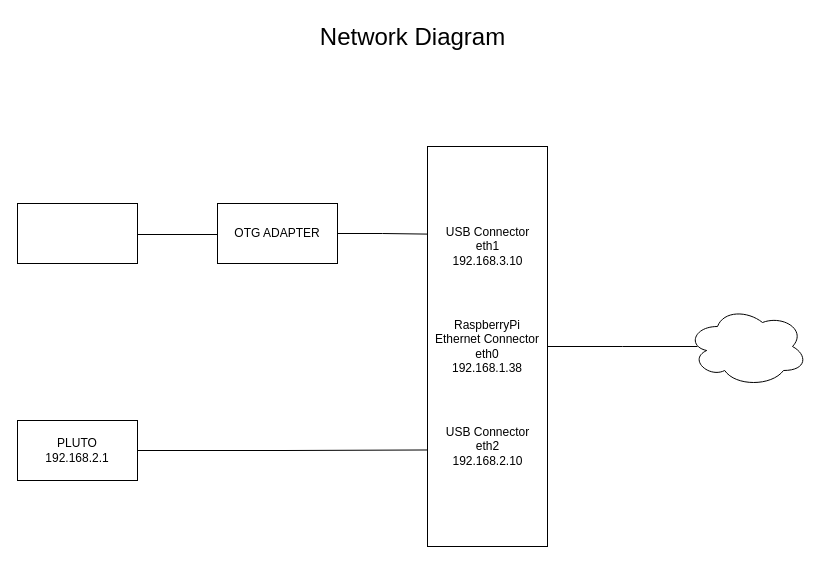
The diagram is 825 pixels wide and 564 high, and some of its shapes have lost their labels. Each missing label, with the centre of its shape:
"ENCODER 192.168.3.1" goes at (77,233).
"LAN 192.168.1.0" goes at (747,346).
